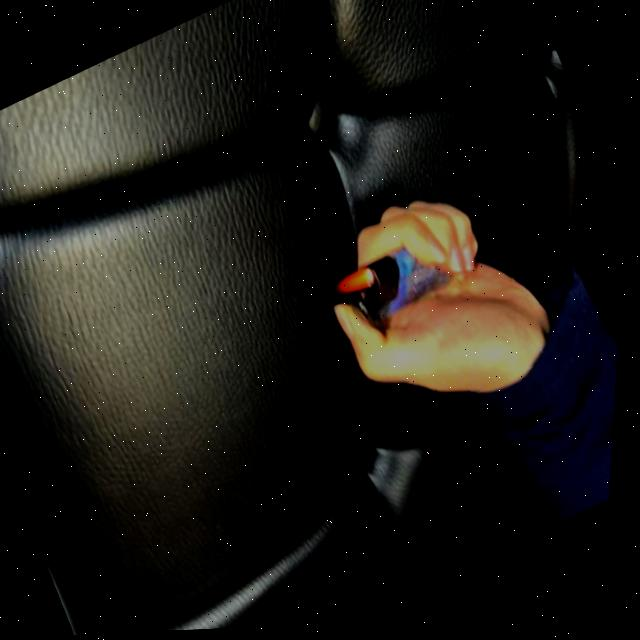Fire: (330, 266, 383, 307)
